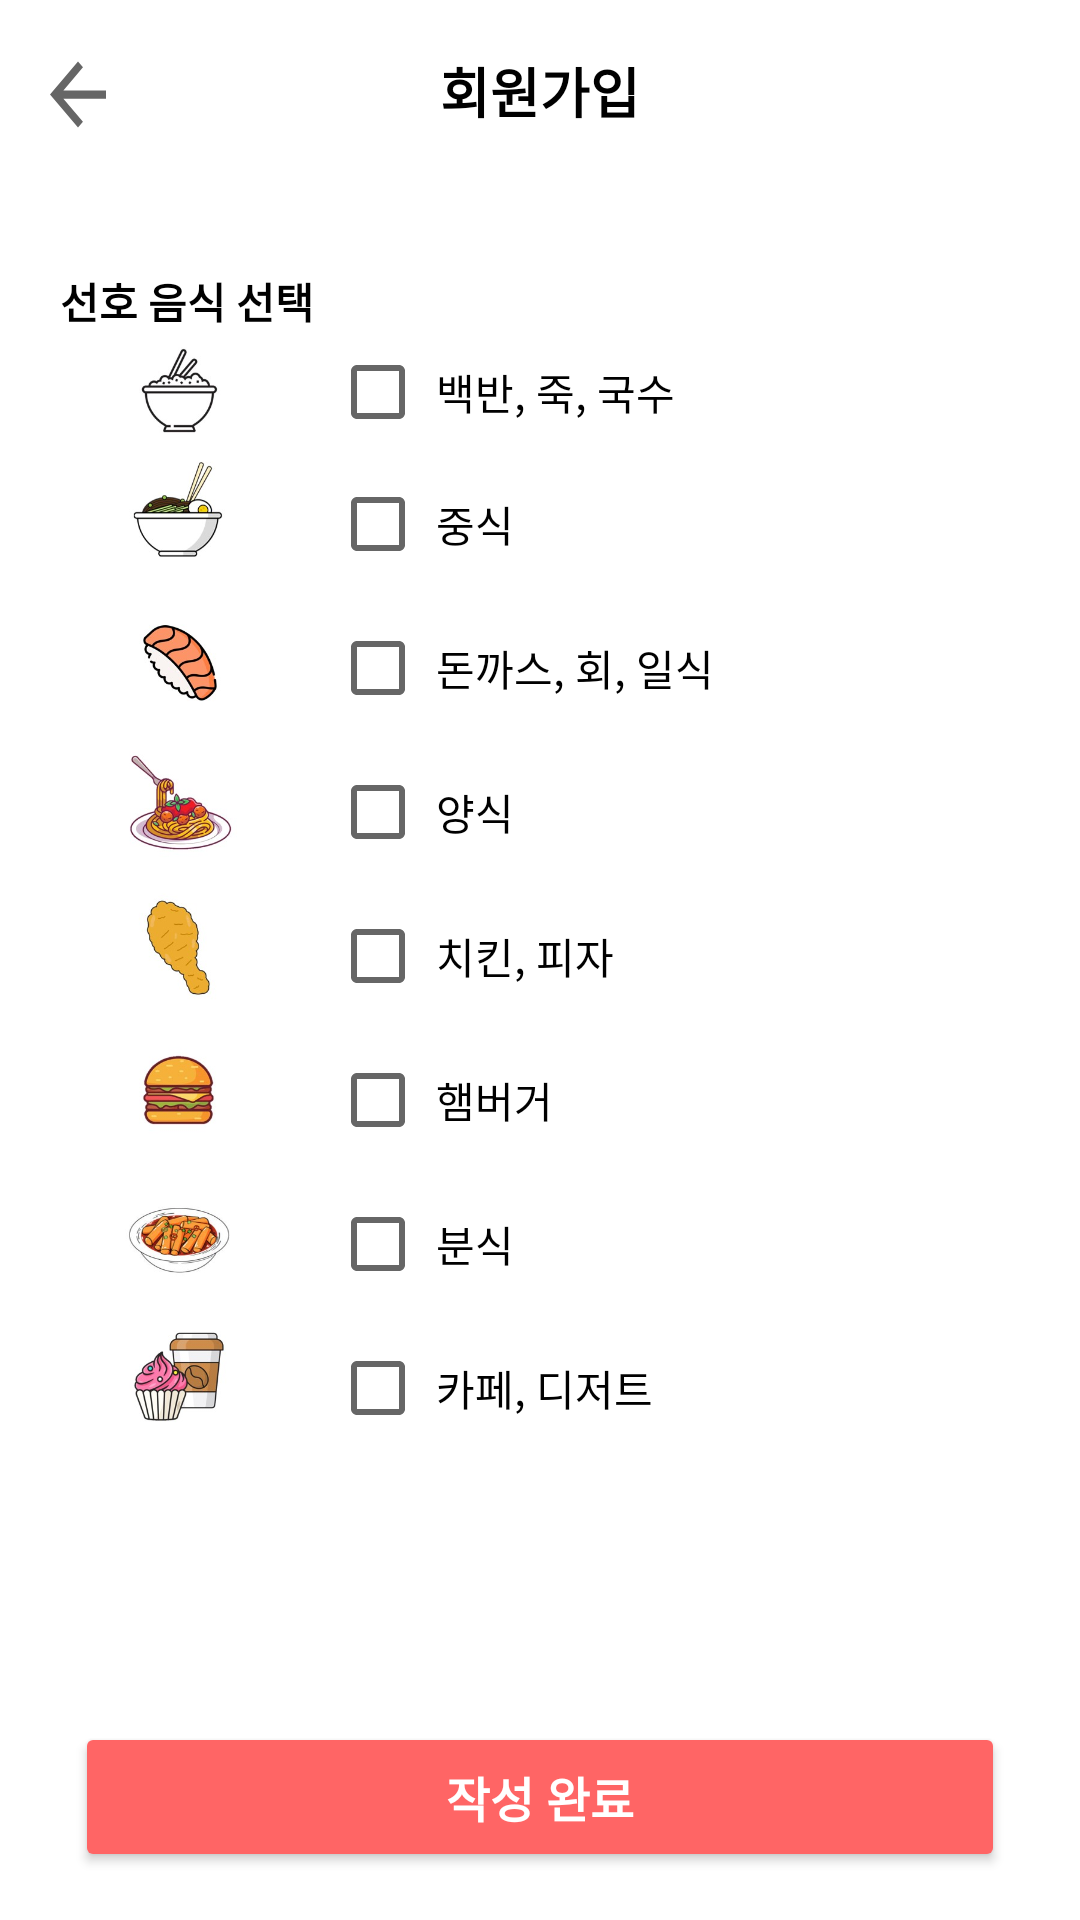

Icons on this 1080w x 1920h Android screen, each with the point to tap as [x,y]:
arrow back: [78,94]
food chicken: [178,947]
food coffee: [179,1376]
food hamburger: [178,1090]
food jajangmyeon: [177,509]
food pasta: [180,802]
food rice: [179,391]
food sushi: [180,663]
food tteokbokki: [179,1240]
